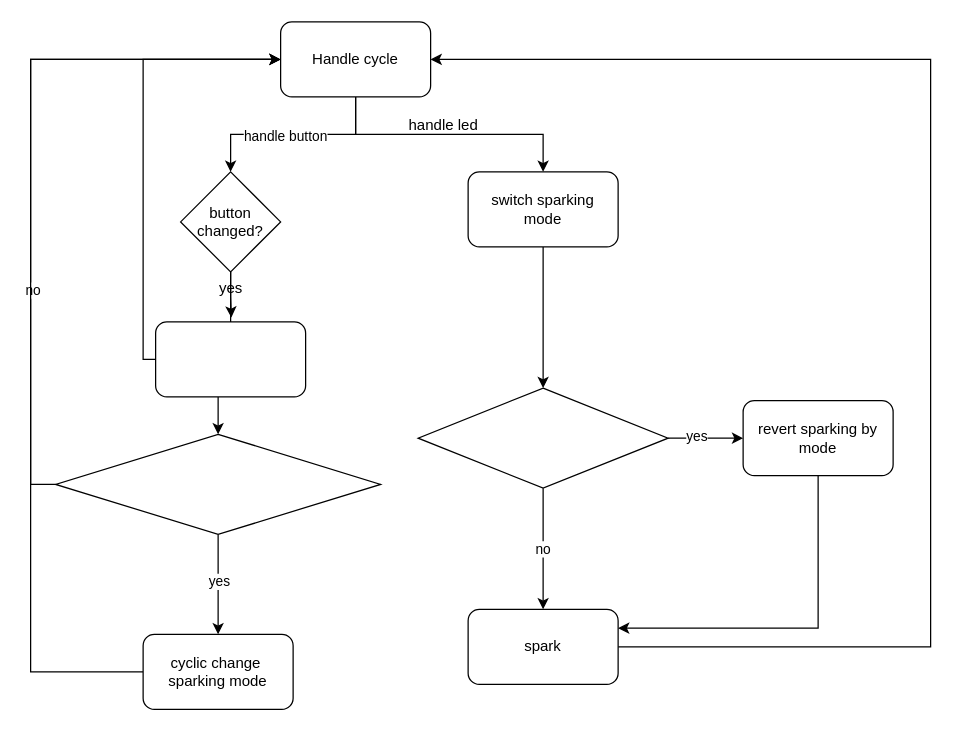
Some shapes in this 963 by 731 pixel diagram are drawn without their labels. Here are the shapes that lost their labels. From the top down, the centre of each, then its label:
the point at 230,359: save state of button and time of changing
the point at 542,437: delta time > delay?
the point at 217,483: time > delay? && button enabled && updated 1 time
